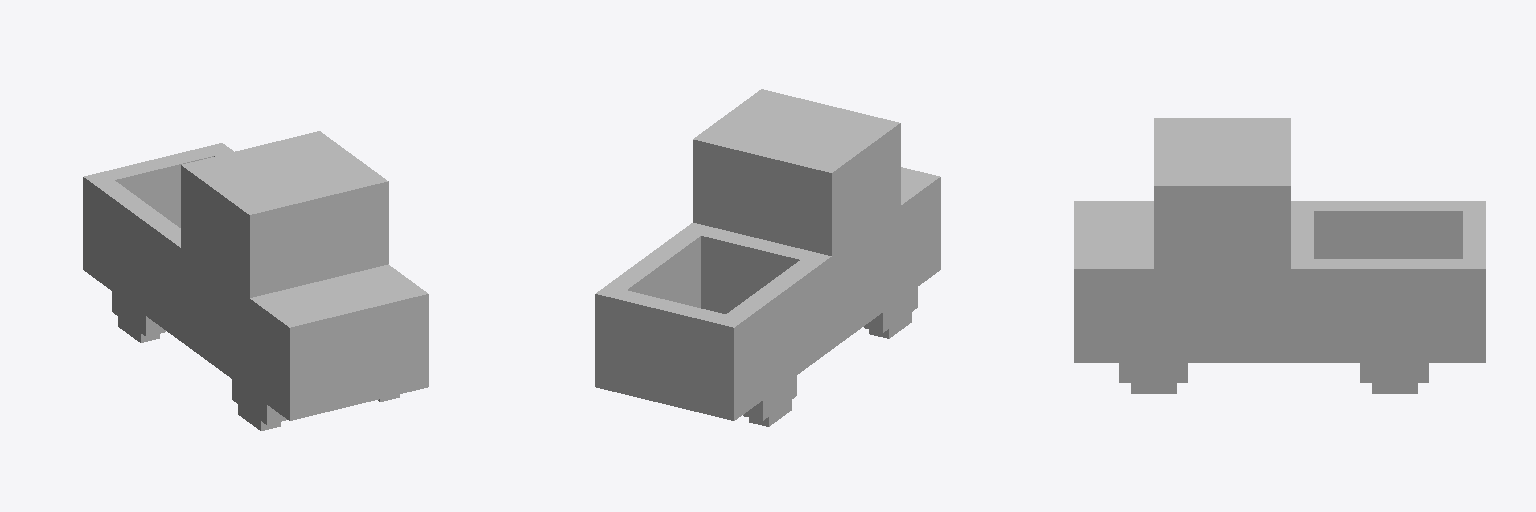
The model's file is red.obj.
3 renders of one model, left to right at view 1: azimuth 30°, elevation 25°; view 2: azimuth 150°, elevation 25°; view 3: azimuth 270°, elevation 25°, orthographic.
Parts seen in each view (by area): view 1: object 1; view 2: object 1; view 3: object 1.
Part boxes in pixels (bbox=[...]): object 1: bbox=[83, 131, 428, 430]; object 1: bbox=[595, 89, 940, 426]; object 1: bbox=[1074, 118, 1485, 393].
Size of the model in its own units: 1.4 by 2 by 3.6.